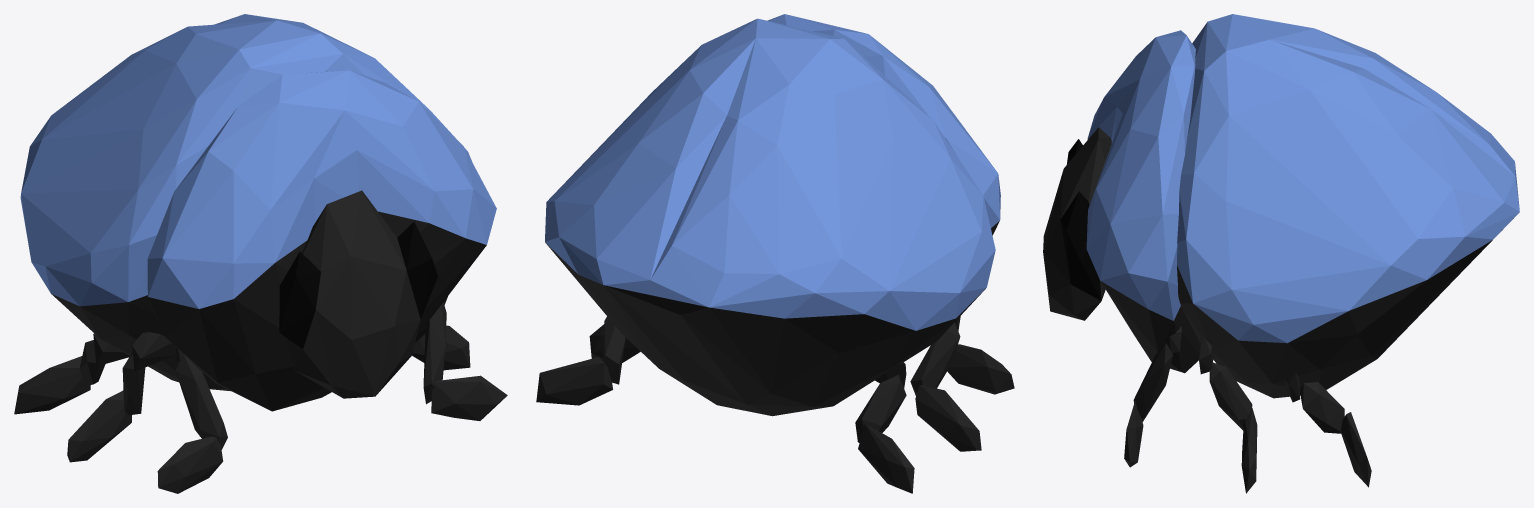
File: splatchildblue.fbx
3 views of the same model, side by side, from view 1: azimuth 30°, elevation 25°; view 2: azimuth 150°, elevation 25°; view 3: azimuth 270°, elevation 25° (orthographic). The views are drawn at different scales.
Visible parts, largest first — view 1: splat; view 2: splat; view 3: splat.
Boxes of the visible parts, x1,y1,x2,y2 form: splat: (14,14,507,493); splat: (536,14,1014,493); splat: (1043,14,1519,493).
Size of the model in its own units: 161 by 170 by 146.
